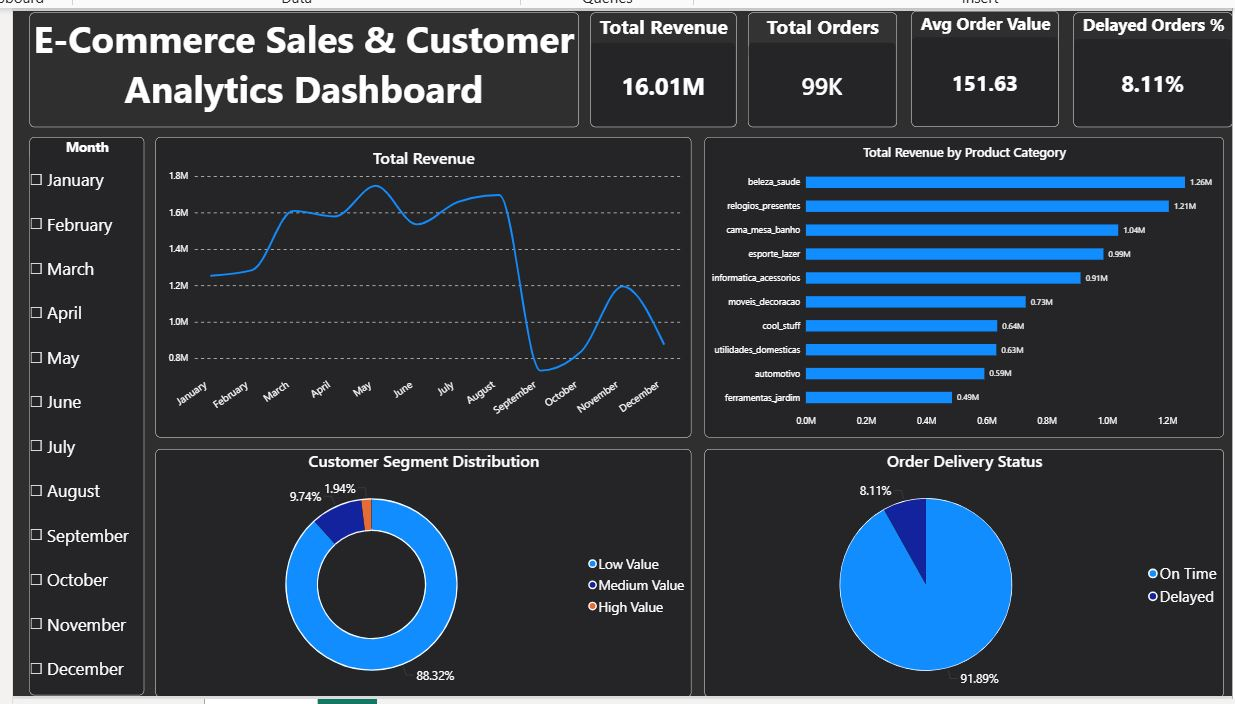

Layout of this report page (visuals, bound fields, positions):
{"tool":"powerbi","page":{"name":"Page 1","canvas":[1920,1080],"ordinal":0},"visuals":[{"type":"cardVisual","title":"Total Revenue","fields":{"Data":["monthly_sales.Total Revenue"]},"box":[909.7,2.3,229.8,180.5],"z":0},{"type":"cardVisual","title":"Total Orders","fields":{"Data":["monthly_sales.Total Orders"]},"box":[1158.2,2.3,234.4,180.5],"z":1000},{"type":"cardVisual","title":"Avg Order Value","fields":{"Data":["monthly_sales.Avg Order Value"]},"box":[1416.1,0,232.1,182.9],"z":2000},{"type":"cardVisual","title":"Delayed Orders %","fields":{"Data":["delivery_performance.Delayed Orders %"]},"box":[1669.3,2.3,250.9,180.5],"z":3000},{"type":"lineChart","title":"Total Revenue","fields":{"Category":["monthly_sales.month.Variation.Date Hierarchy.Month"],"Y":["monthly_sales.Total Revenue"]},"box":[225.1,199.3,844,473.6],"z":4000},{"type":"barChart","title":"Total Revenue by Product Category","fields":{"Category":["top_categories.product_category_name"],"Y":["Sum(top_categories.total_revenue)"]},"box":[1090.2,199.3,818.2,473.6],"z":5000},{"type":"donutChart","title":"Customer Segment Distribution","fields":{"Category":["customer_segments.customer_segment"],"Y":["Sum(customer_segments.total_spent)"]},"box":[225.1,689.3,844,391.5],"z":6000},{"type":"pieChart","title":"Order Delivery Status","fields":{"Category":["delivery_performance.delivery_status"],"Y":["CountNonNull(delivery_performance.order_id)"]},"box":[1090.2,689.3,818.2,391.5],"z":7000},{"type":"textbox","box":[25.8,2.3,865.1,180.5],"z":7001},{"type":"listSlicer","fields":{"Values":["monthly_sales.month.Variation.Date Hierarchy.Month"]},"box":[25.8,199.3,180.5,879.2],"z":7002}]}

Visuals, with their boxes in screenshot pixels (x1, y1, x2, y2):
"Total Revenue" cardVisual: {"left": 593, "top": 8, "right": 739, "bottom": 122}
"Total Orders" cardVisual: {"left": 751, "top": 8, "right": 899, "bottom": 122}
"Avg Order Value" cardVisual: {"left": 914, "top": 6, "right": 1062, "bottom": 122}
"Delayed Orders %" cardVisual: {"left": 1075, "top": 8, "right": 1234, "bottom": 122}
"Total Revenue" lineChart: {"left": 159, "top": 133, "right": 694, "bottom": 433}
"Total Revenue by Product Category" barChart: {"left": 708, "top": 133, "right": 1227, "bottom": 433}
"Customer Segment Distribution" donutChart: {"left": 159, "top": 444, "right": 694, "bottom": 692}
"Order Delivery Status" pieChart: {"left": 708, "top": 444, "right": 1227, "bottom": 692}
textbox: {"left": 32, "top": 8, "right": 581, "bottom": 122}
listSlicer - monthly_sales.month.Variation.Date Hierarchy.Month: {"left": 32, "top": 133, "right": 147, "bottom": 691}
